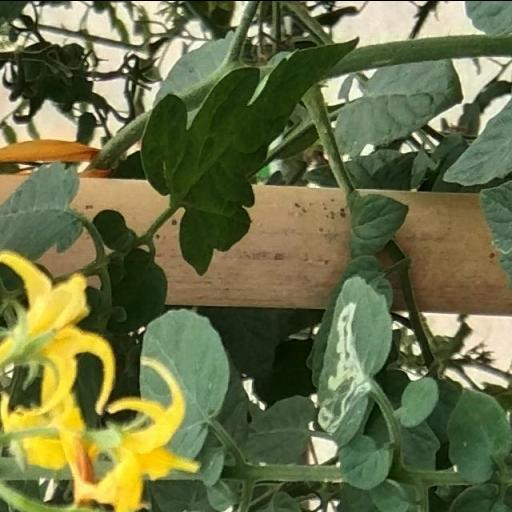Leaf Miner: (316, 272, 397, 446)
